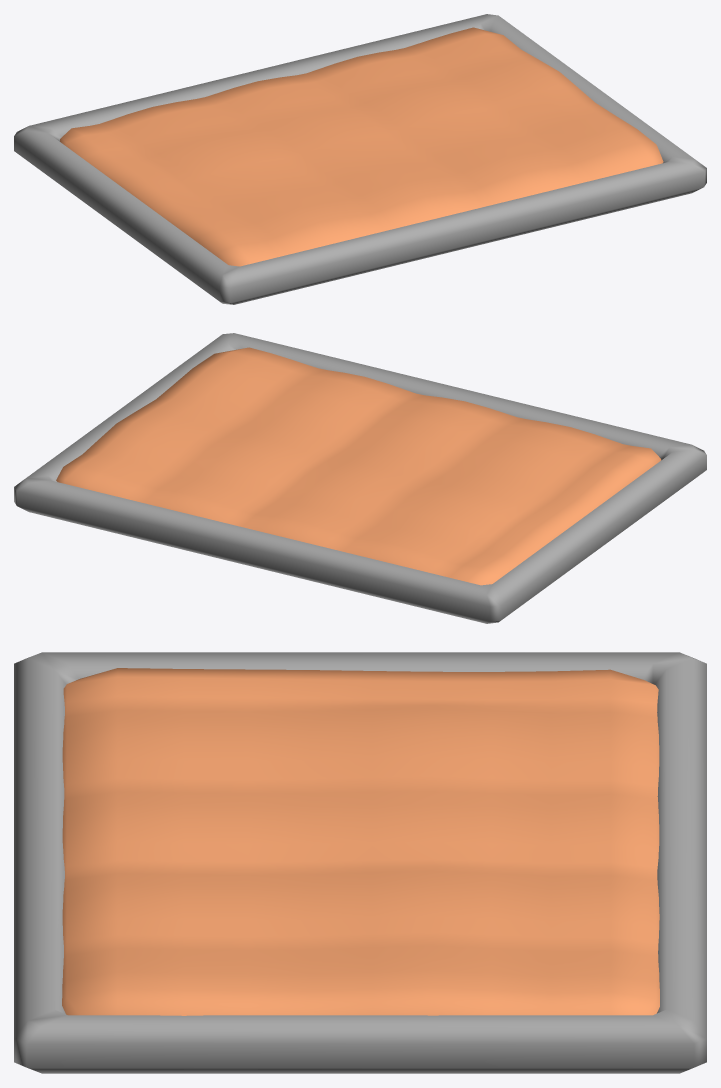
The model's file is Field.fbx.
The picture shows the model from 3 angles, top to bottom: view 1: azimuth 30°, elevation 25°; view 2: azimuth 150°, elevation 25°; view 3: azimuth 270°, elevation 25°; orthographic projection. The views are drawn at different scales.
Visible parts, largest first — view 1: pCube3; view 2: pCube3; view 3: pCube3.
Part boxes in pixels (box(x1,y1,x2,y2)): pCube3: box(14, 14, 706, 304); pCube3: box(14, 333, 706, 623); pCube3: box(14, 652, 706, 1073).
Size of what is drawn, in the model's own units: 5.99 by 0.5668 by 4.54.
Materials: 2 (1 with a texture image).
